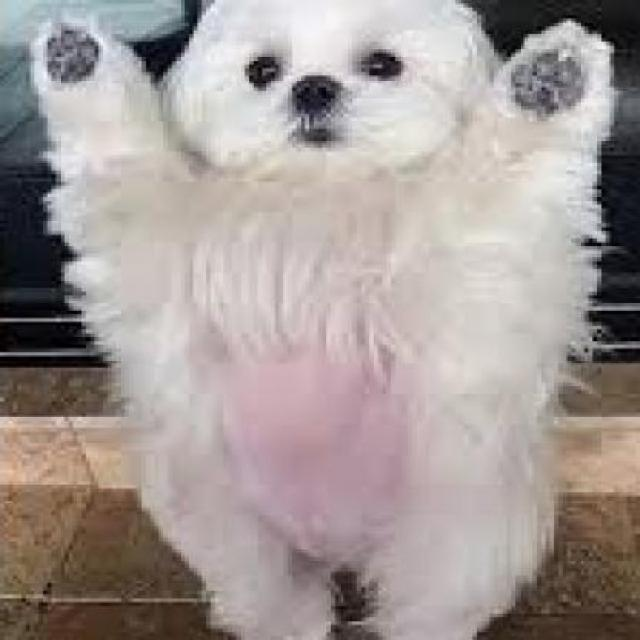Dog: (30, 0, 628, 637)
